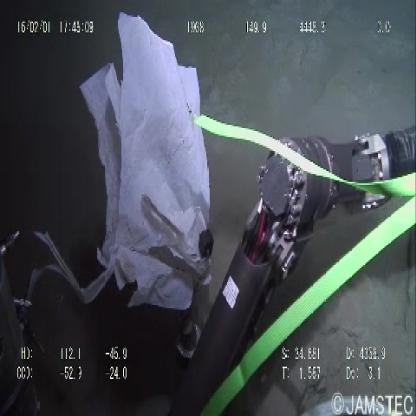Rov: (187, 114, 416, 410)
Rác: (77, 6, 217, 316)
